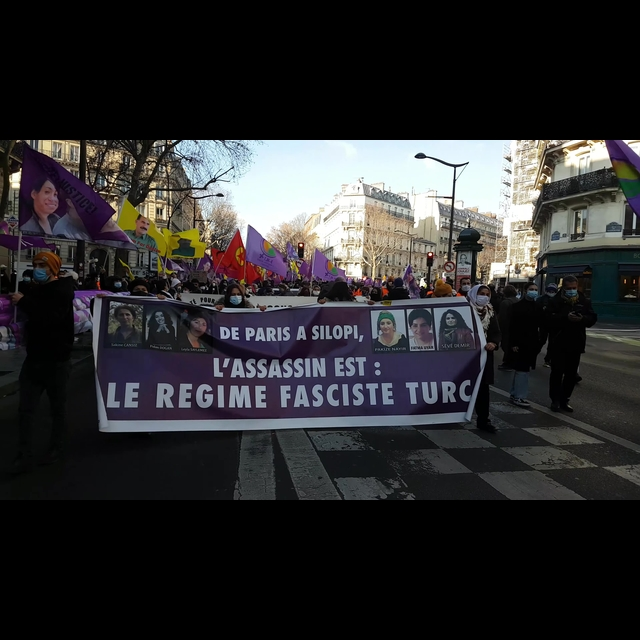APO: (134, 213, 152, 236)
